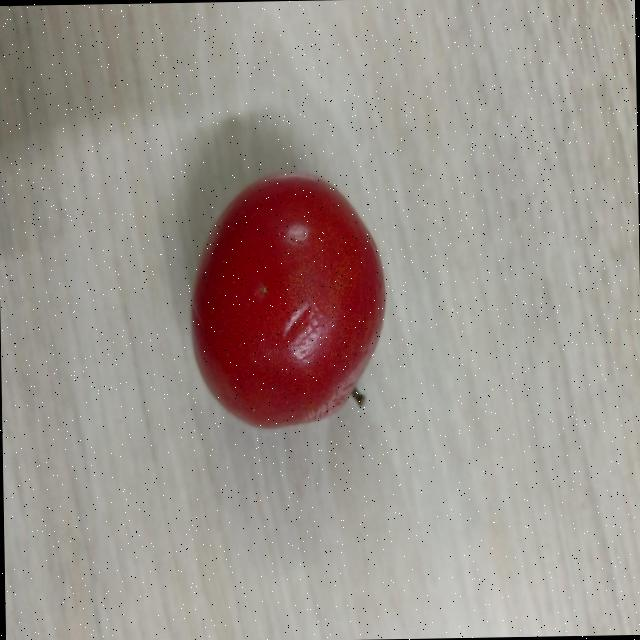Tomato: (186, 170, 389, 432)
